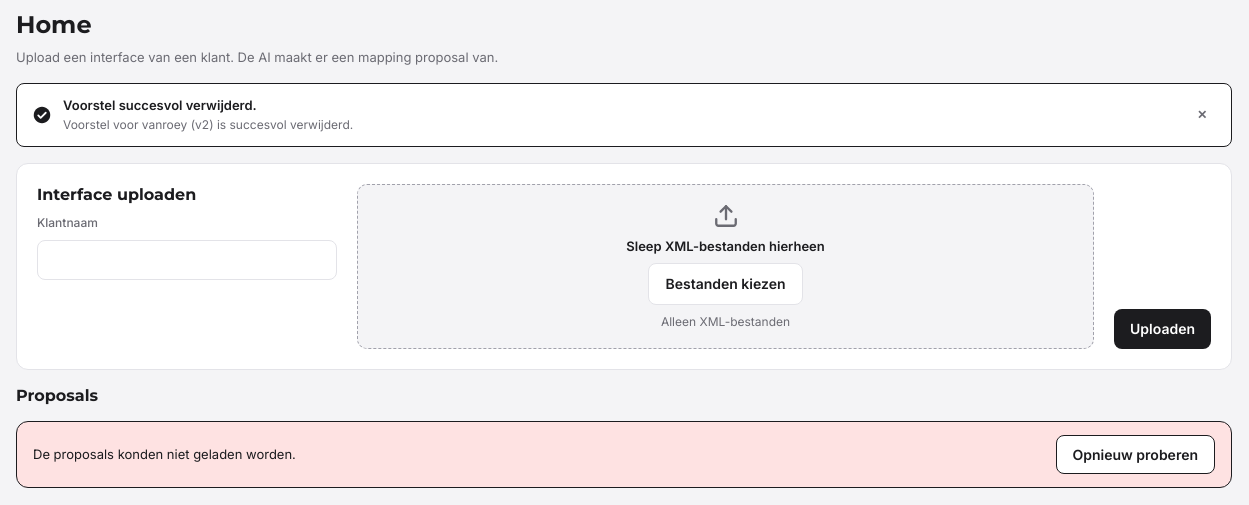
Unit Tests - Frontend Components › dismisses the deletion success banner when the close button is clicked
Expected: the message with test id "delete-success-banner" is shown, [16,83,1232,146]
Click the button named "Melding sluiten" at (1202, 115), box [1189,103,1215,127]
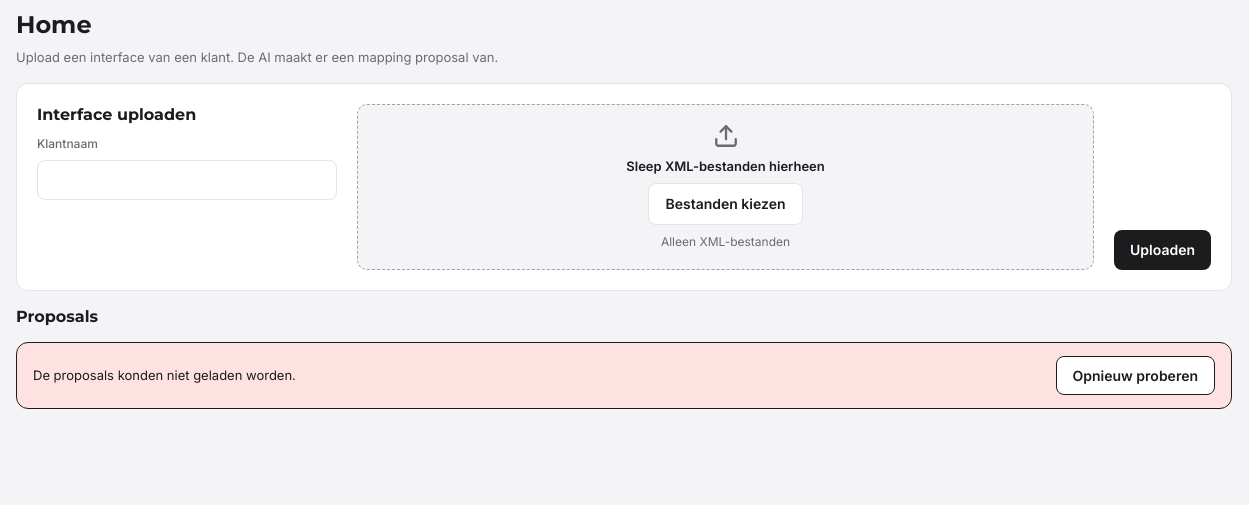
Expected: the message with test id "delete-success-banner" is gone
